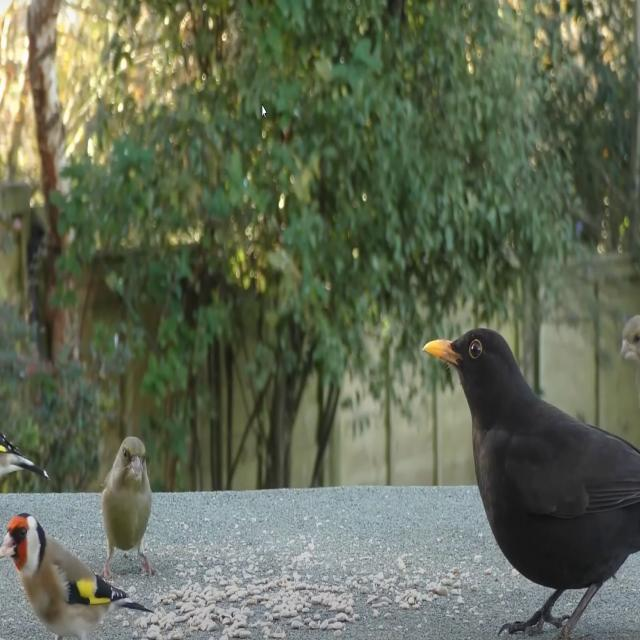beak: (421, 335, 457, 369), (0, 534, 17, 559), (129, 457, 143, 485), (618, 344, 630, 371)
bird: (421, 321, 640, 640), (0, 508, 116, 630), (102, 433, 157, 584), (0, 441, 51, 496), (615, 315, 640, 366)
